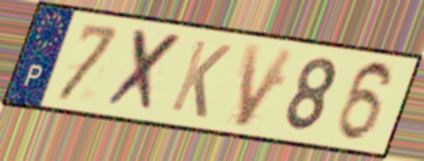6: (333, 58, 400, 145)
7: (54, 22, 123, 103)
8: (283, 56, 339, 134)
K: (167, 36, 235, 122)
V: (233, 41, 300, 130)
X: (102, 25, 187, 116)
